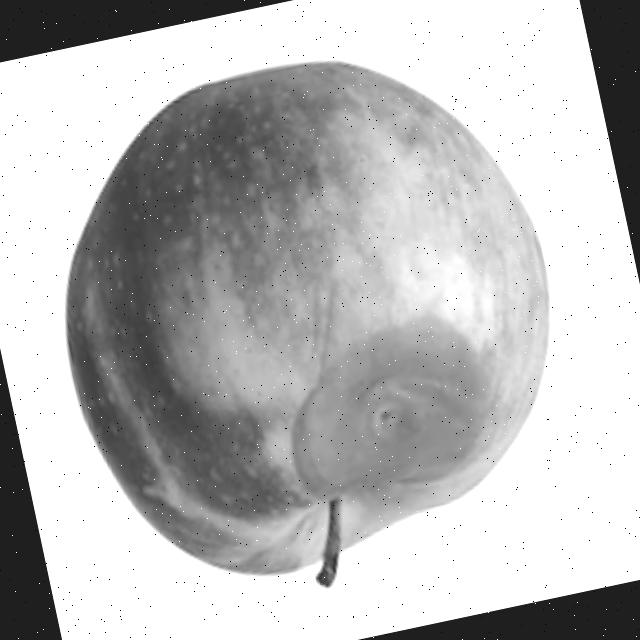Rotten: (14, 6, 606, 610)
